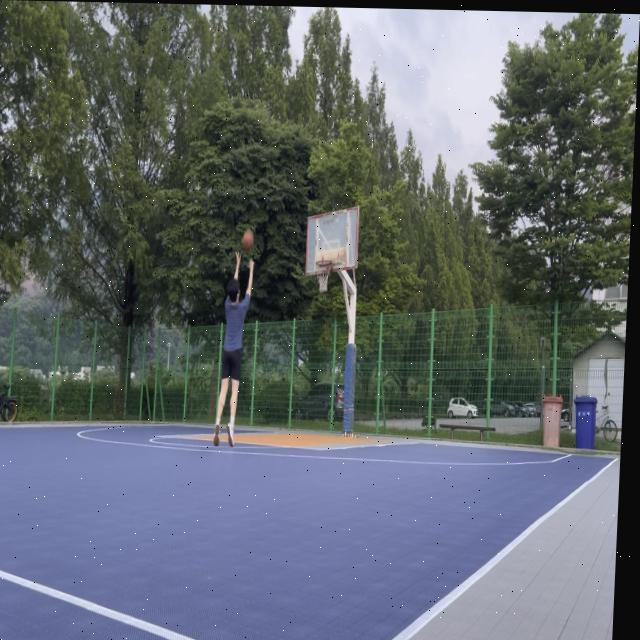basketball: (242, 229, 254, 252)
hoop: (315, 260, 333, 294)
